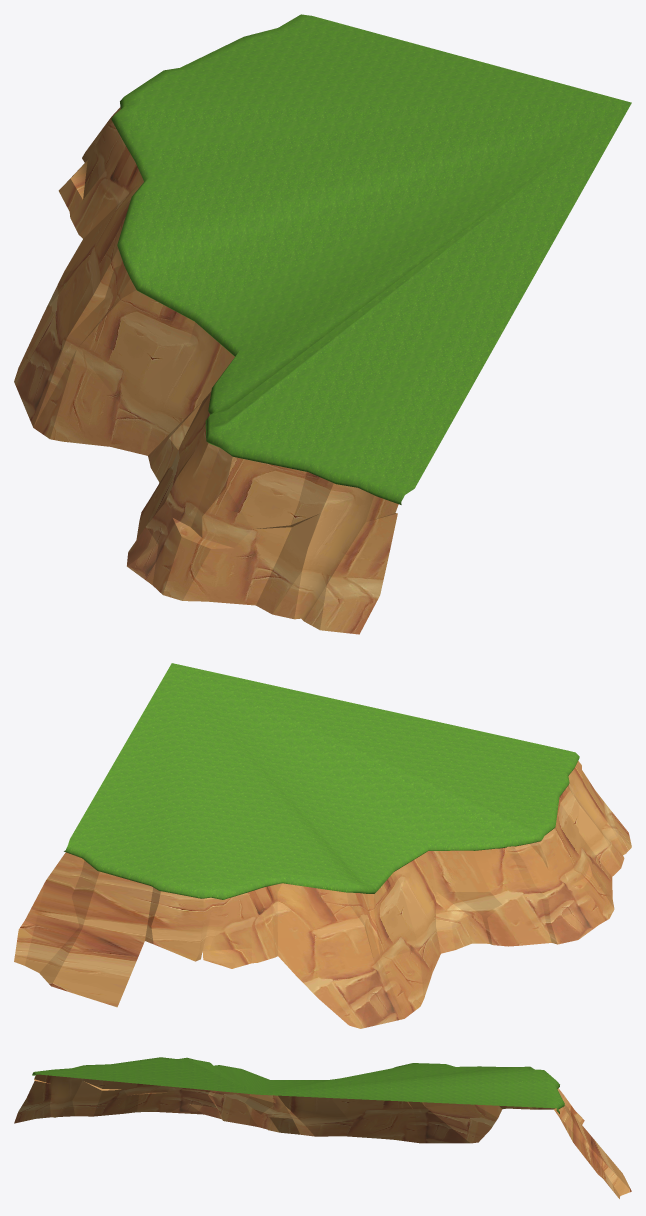
Rendered from rock grass.fbx.
3 renders of one model, top to bottom at view 1: azimuth 30°, elevation 25°; view 2: azimuth 150°, elevation 25°; view 3: azimuth 270°, elevation 25°, orthographic. The views are drawn at different scales.
Parts seen in each view (by area): view 1: rock_grass; view 2: rock_grass; view 3: rock_grass.
Part boxes in pixels (x1,y1,x2,y2): rock_grass: [14, 14, 631, 634]; rock_grass: [14, 663, 631, 1028]; rock_grass: [14, 1057, 631, 1198].
Size of the model in its own units: 12136 by 6439 by 18917.
